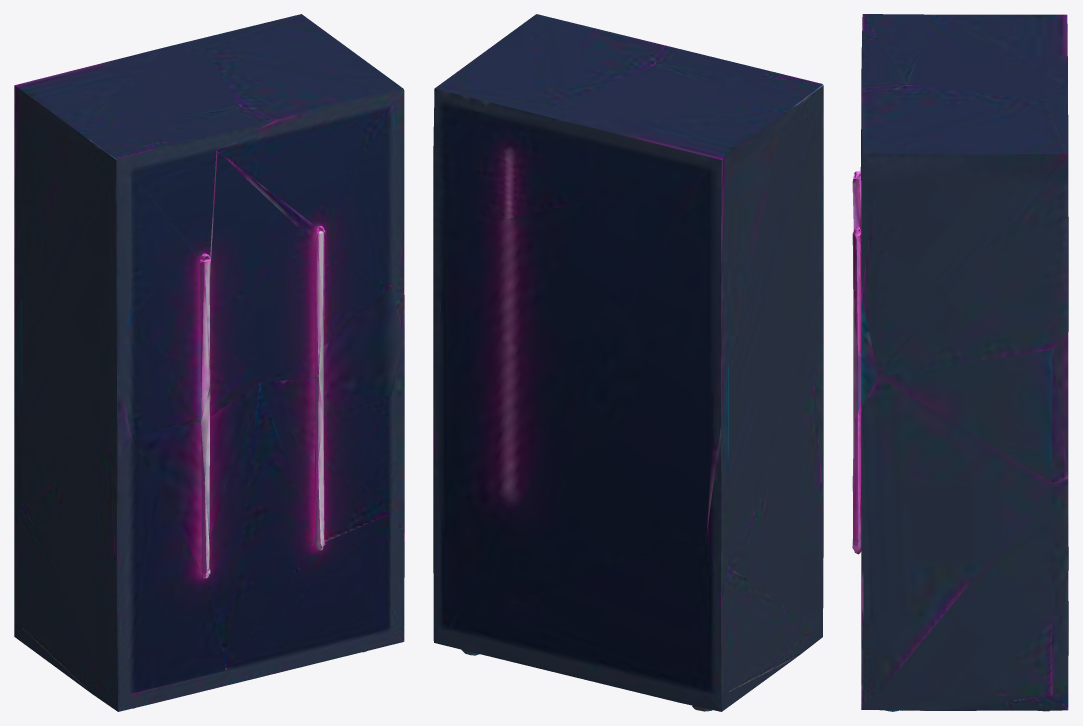
The model's file is panel.glb.
The picture shows the model from 3 angles, left to right: view 1: azimuth 30°, elevation 25°; view 2: azimuth 150°, elevation 25°; view 3: azimuth 270°, elevation 25°; orthographic projection.
Size of the model in its own units: 1.02 by 1.9 by 0.6581.
1 material, 1 textured.
